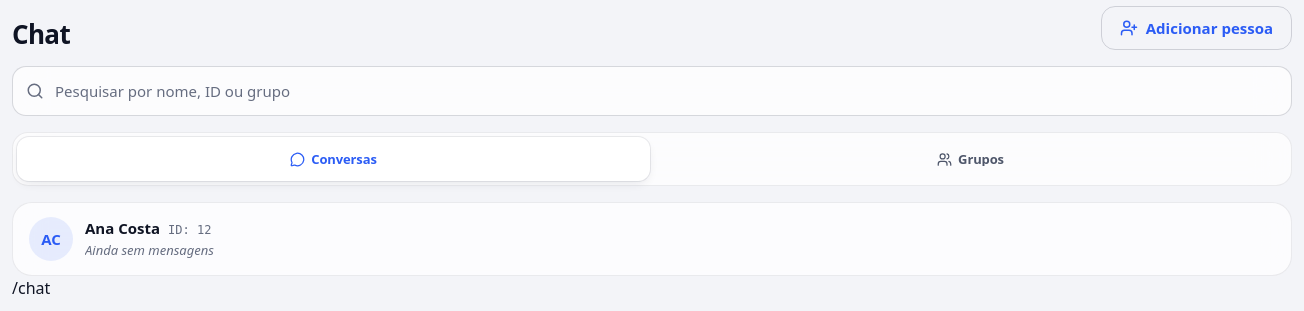
it: ChatPage › search › by ID: the exact ID comes first ("15 — Samuel Lopes — Monitor") and replaces the tabs
Type "15" into the search field named "Pesquisar no chat" at (652, 91), box [12, 66, 1292, 116]
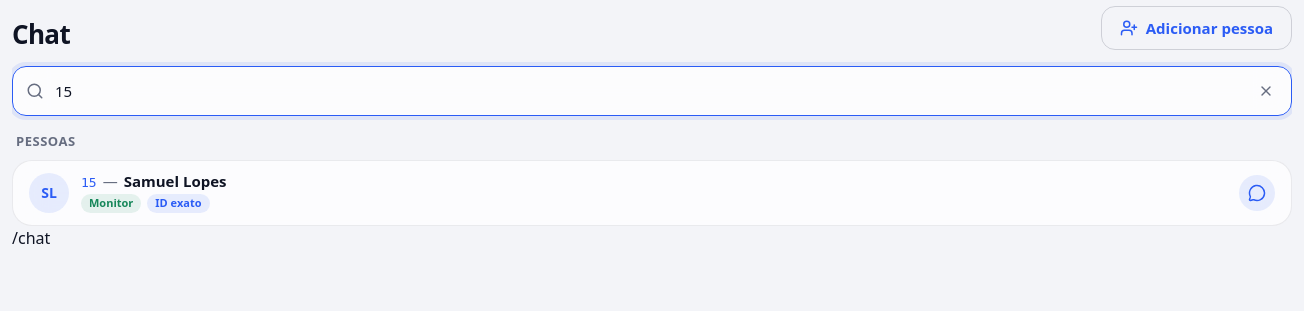
Result: the text "ID exato" is shown at [147, 194, 210, 213]
Clear the search field named "Pesquisar no chat" at (652, 91), box [12, 66, 1292, 116]
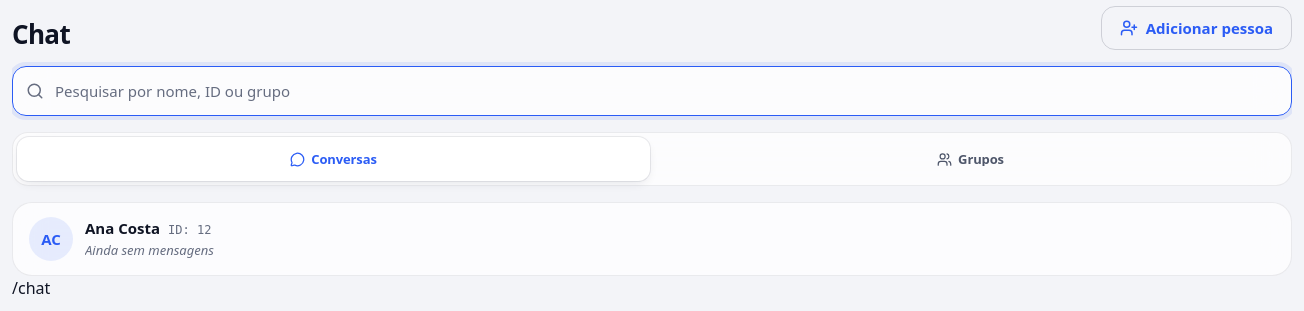
Result: the element showing "Conversas Grupos" is shown at [12, 132, 1292, 186]
